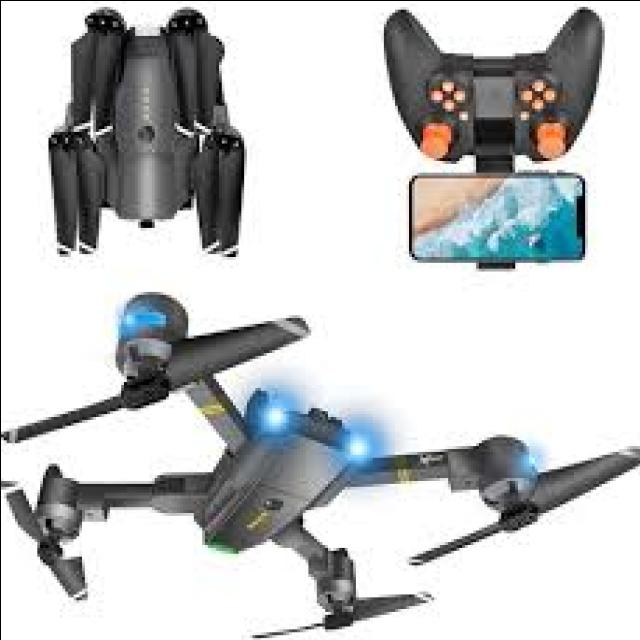drone: (0, 282, 637, 640)
